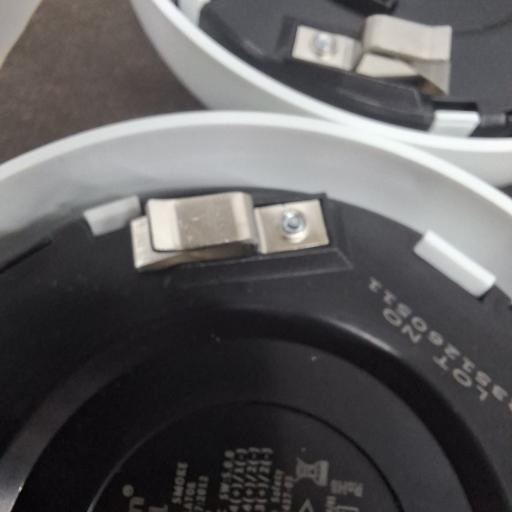yayli: (125, 188, 334, 272), (294, 15, 453, 94)
